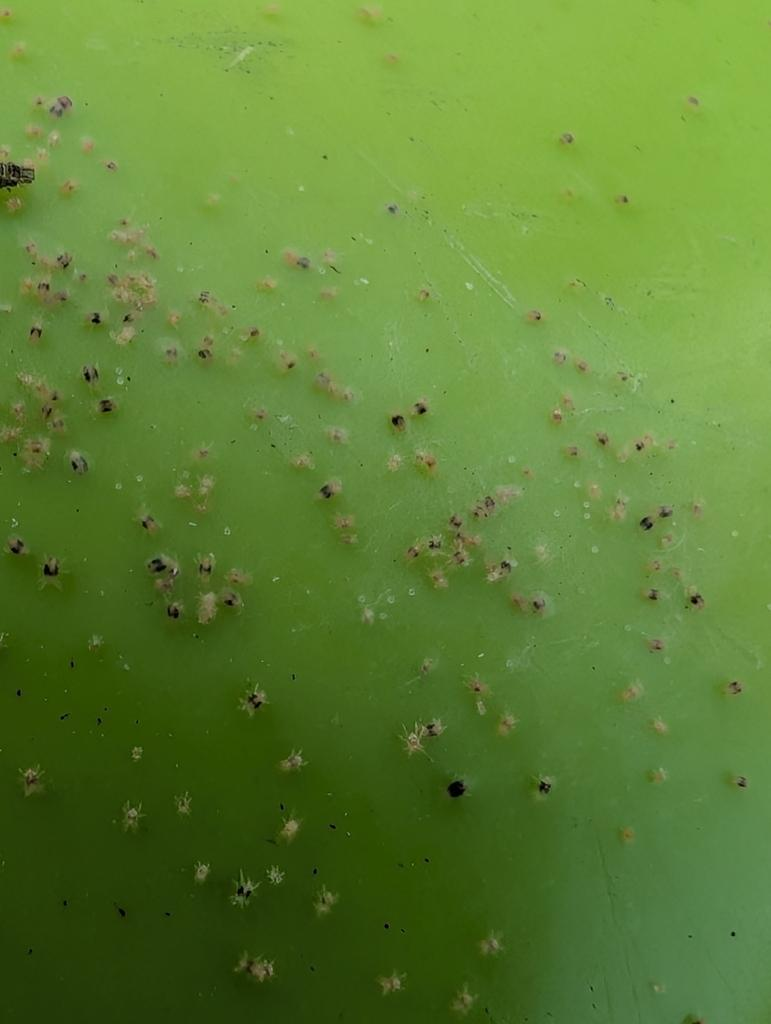tiny_pests: (6, 223, 162, 482), (379, 459, 564, 624), (130, 529, 272, 645), (161, 263, 271, 389), (551, 391, 663, 481), (632, 539, 719, 630), (392, 713, 451, 763), (226, 674, 279, 728), (309, 466, 347, 509), (227, 865, 260, 912), (443, 763, 475, 804)
